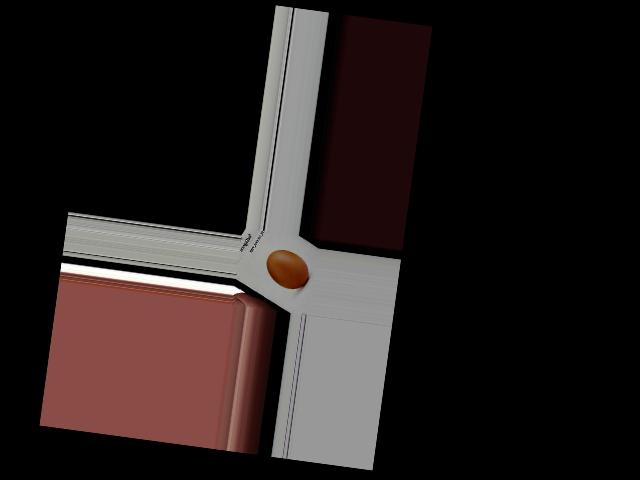egg: (263, 248, 311, 291)
